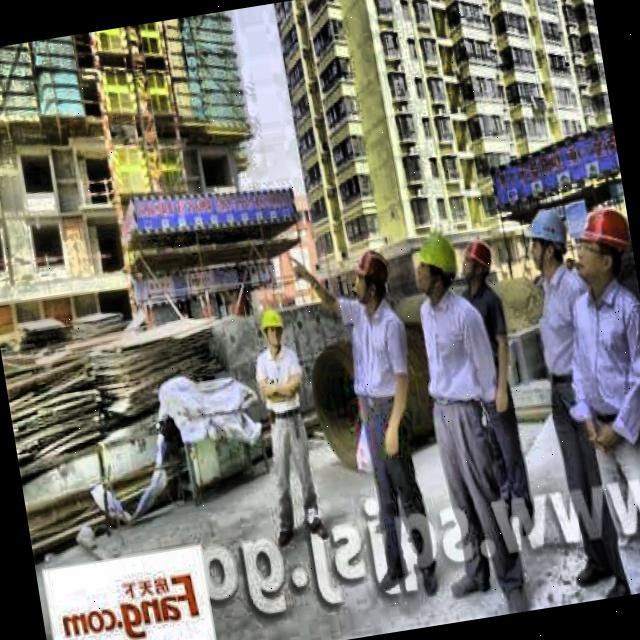helmet: (568, 200, 636, 288), (411, 220, 464, 300), (519, 205, 574, 278), (352, 241, 393, 306), (254, 300, 292, 357), (457, 236, 500, 284)
